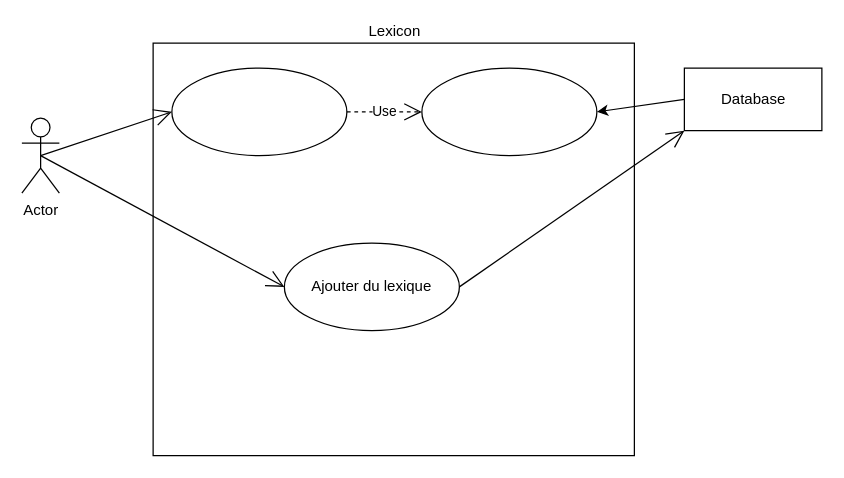
Some shapes in this 844 by 478 pixel diagram are drawn without their labels. Here are the shapes that lost their labels. From the top down, the centre of each, then its label:
pixel 259 111: Deviner un mot
pixel 509 111: Vérifier la réponse
